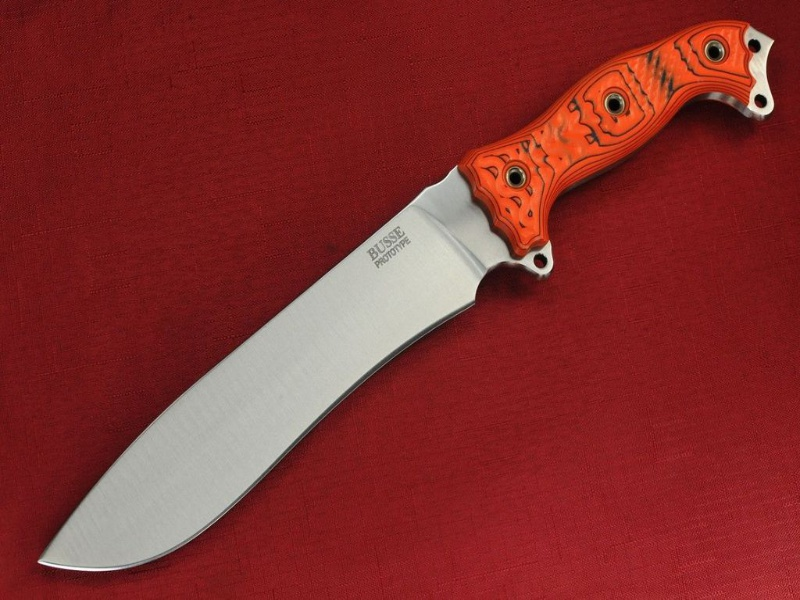knife: (38, 17, 780, 573)
